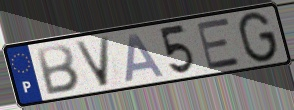5: (158, 22, 196, 77)
A: (124, 31, 168, 84)
B: (34, 43, 82, 97)
E: (195, 16, 244, 72)
G: (236, 10, 280, 64)
V: (72, 35, 113, 89)
